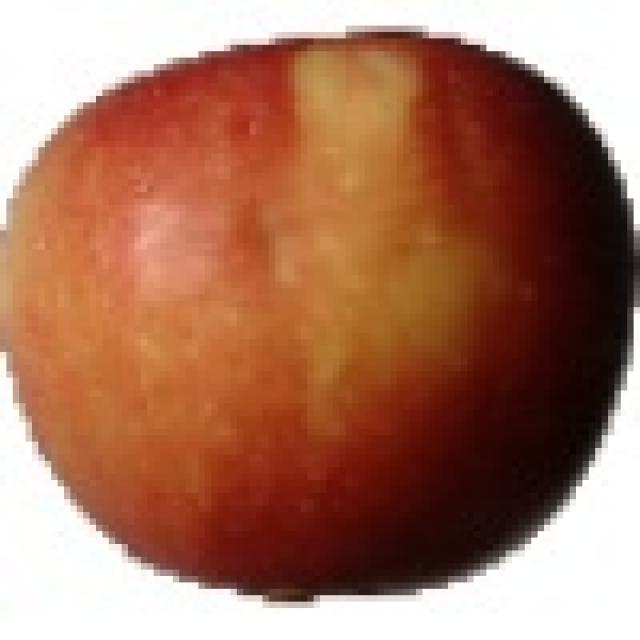apple: (6, 28, 640, 598)
